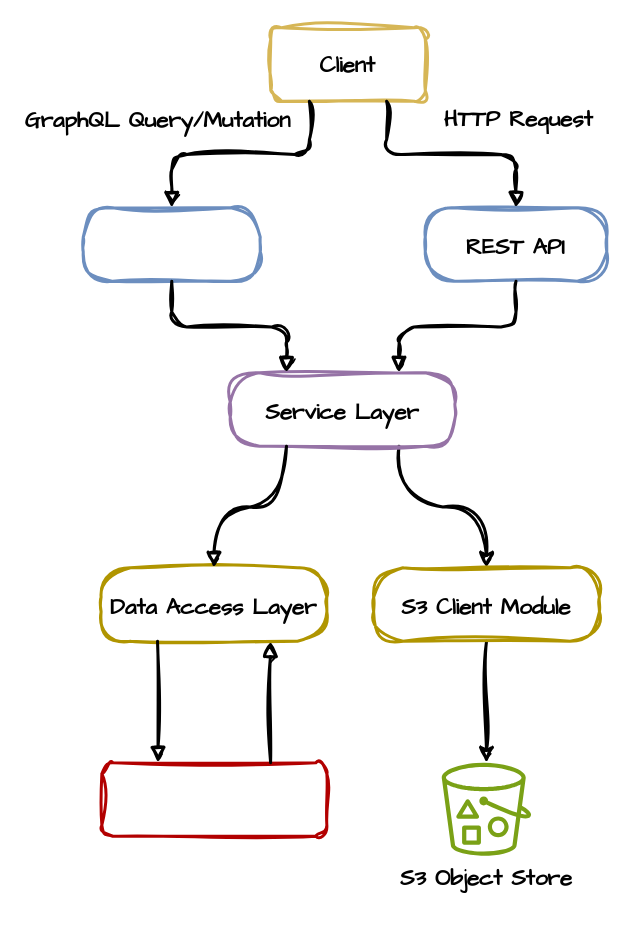
Image size: 635x926. Some labels were removed from this diagram. The shapes that lost their labels are listed below. From the top down, each one's box as (x1, y1, x2, y2) in pixels, then its label:
(81, 206, 261, 282): GraphQL API
(100, 760, 328, 837): Database
